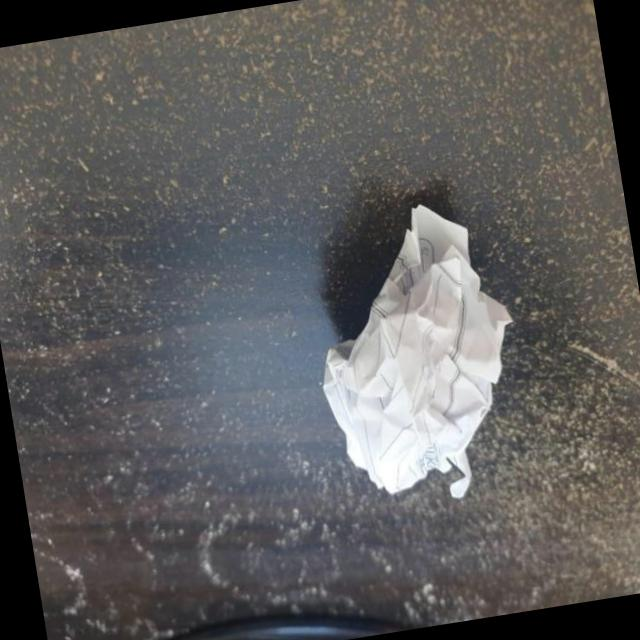cardboard paper: (322, 207, 508, 499)
